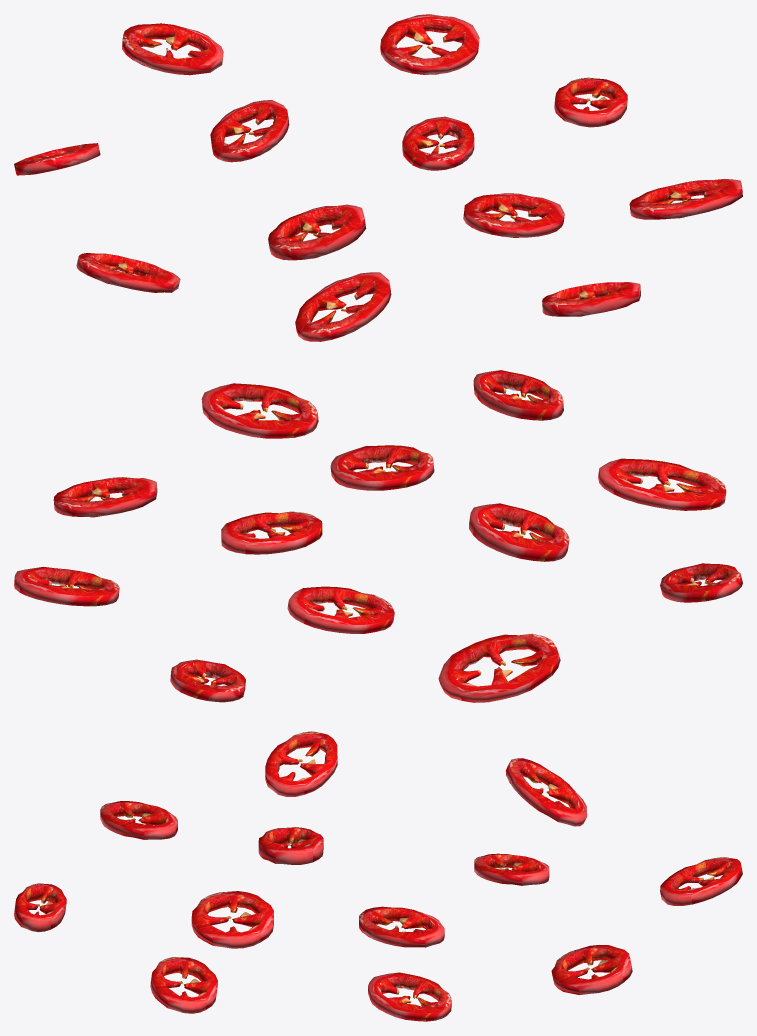
File: hot_pepper_topping.fbx
3 renders of one model, top to bottom at view 1: azimuth 30°, elevation 25°; view 2: azimuth 150°, elevation 25°; view 3: azimuth 270°, elevation 25°, orthographic. The views are drawn at different scales.
Parts seen in each view (by area): view 1: hot_pepper.005, hot_pepper.003, hot_pepper.001, hot_pepper.009, hot_pepper.011, hot_pepper.006, hot_pepper.008, hot_pepper.010, hot_pepper.007, hot_pepper.002, hot_pepper.004, hot_pepper; view 2: hot_pepper, hot_pepper.003, hot_pepper.006, hot_pepper.001, hot_pepper.008, hot_pepper.011, hot_pepper.010, hot_pepper.004, hot_pepper.005, hot_pepper.007, hot_pepper.002, hot_pepper.009; view 3: hot_pepper.011, hot_pepper.002, hot_pepper, hot_pepper.005, hot_pepper.007, hot_pepper.006, hot_pepper.010, hot_pepper.009, hot_pepper.003, hot_pepper.001, hot_pepper.004, hot_pepper.008.
Part boxes in pixels (x1,y1,x2,y2): hot_pepper.005: (380,14,479,74); hot_pepper.003: (295,272,391,341); hot_pepper.001: (268,204,366,260); hot_pepper.009: (122,23,223,75); hot_pepper.011: (463,193,564,237); hot_pepper.006: (629,178,742,219); hot_pepper.008: (210,100,289,162); hot_pepper.010: (402,116,474,170); hot_pepper.007: (554,77,627,127); hot_pepper.002: (76,253,180,292); hot_pepper.004: (542,282,640,316); hot_pepper: (14,143,100,175); hot_pepper: (438,633,560,702); hot_pepper.003: (598,458,726,510); hot_pepper.006: (201,383,318,438); hot_pepper.001: (469,503,569,561); hot_pepper.008: (287,586,394,633); hot_pepper.011: (330,445,434,490); hot_pepper.010: (221,511,322,554); hot_pepper.004: (473,370,563,420); hot_pepper.005: (14,567,119,606); hot_pepper.007: (53,477,157,517); hot_pepper.002: (660,563,742,602); hot_pepper.009: (170,659,245,702); hot_pepper.011: (191,891,273,948); hot_pepper.002: (265,731,337,796); hot_pepper: (505,758,587,826); hot_pepper.005: (551,945,632,994); hot_pepper.007: (368,972,451,1021); hot_pepper.006: (150,957,217,1013); hot_pepper.010: (359,906,444,947); hot_pepper.009: (660,857,742,905); hot_pepper.003: (100,801,177,839); hot_pepper.001: (258,827,323,864); hot_pepper.004: (14,883,66,932); hot_pepper.008: (474,853,549,885).
Size of the model in its own units: 48.4 by 3.33 by 55.42.
12 materials, 12 textured.
